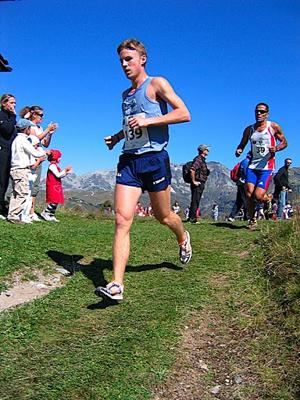person: (94, 41, 194, 302)
